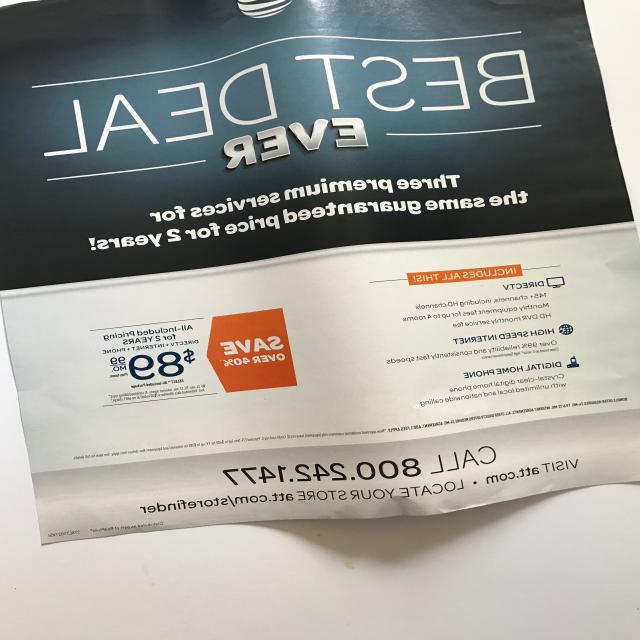paper: (0, 0, 640, 556)
